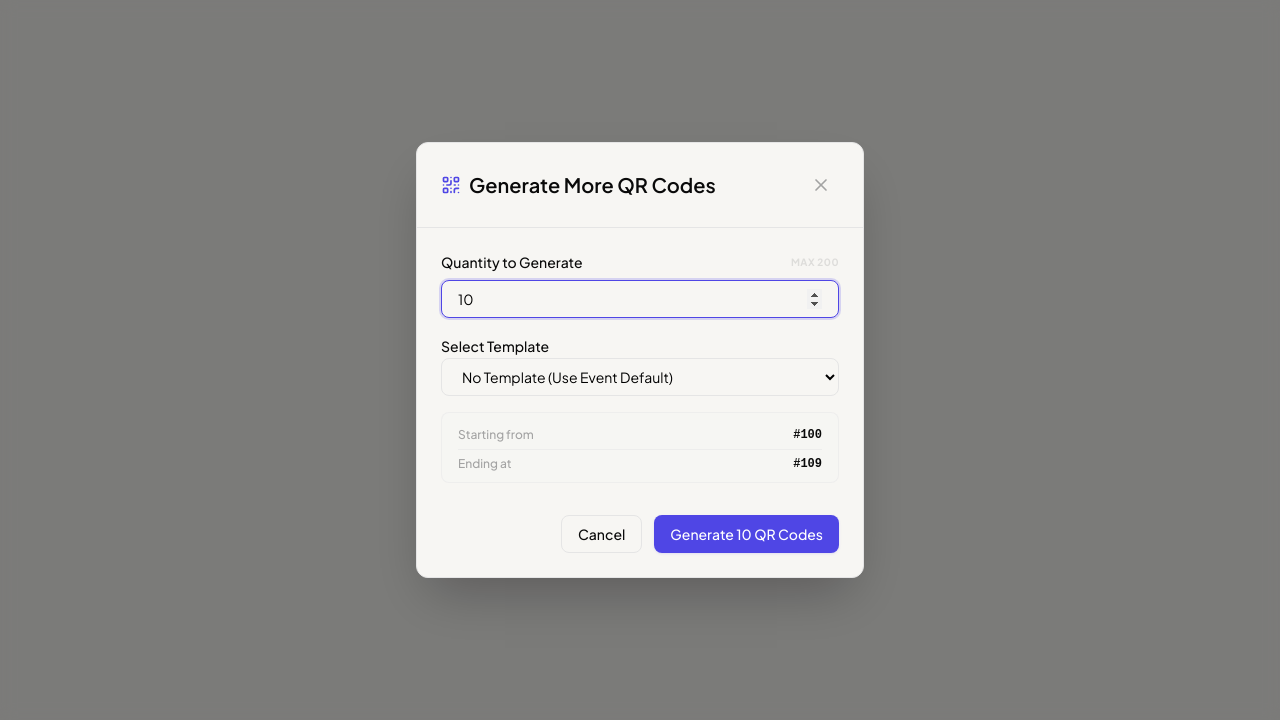
GenerateQrModal › disables generate button when count exceeds maxBatchSize
Expected: the text "Max 200" is shown, [791,254,839,270]
Replace the text in the number field with placeholder "Enter number (1-200)" with "201" at (640, 299), box [441,280,839,318]
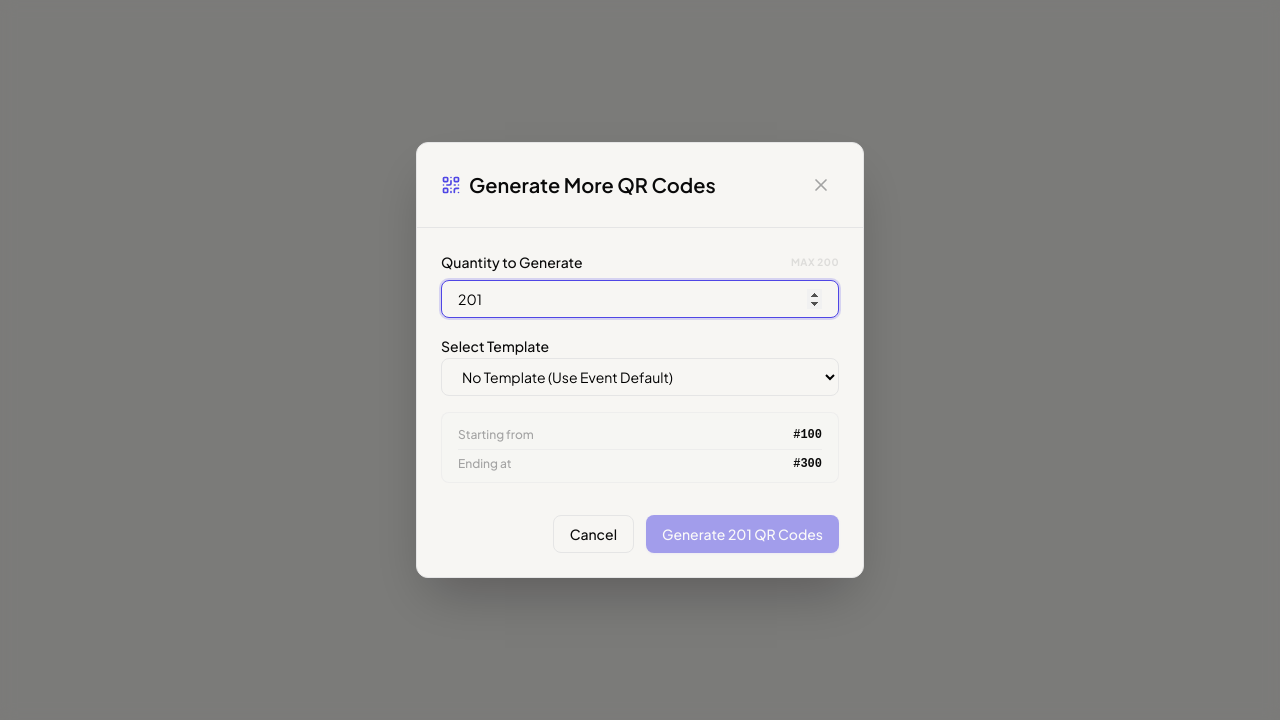
Expected: the button "Generate 201 QR Codes" is disabled, [646,515,839,553]
